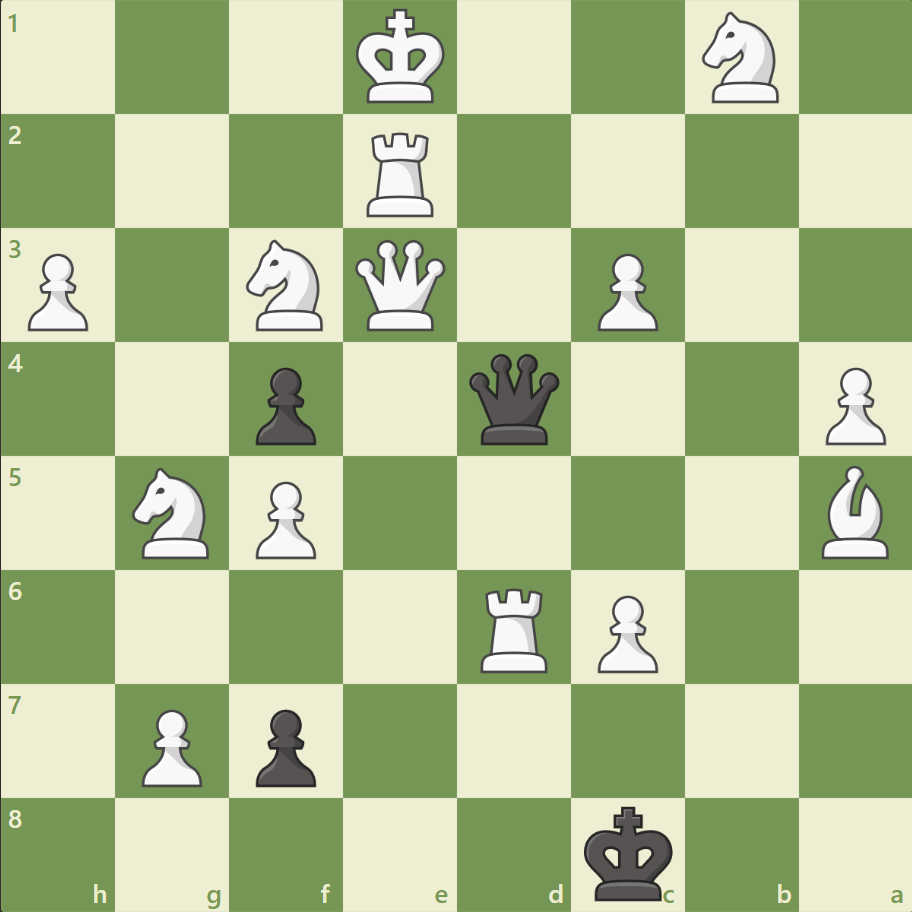B: (812, 460, 896, 563)
K: (351, 4, 451, 112)
N: (124, 461, 222, 564), (238, 234, 335, 337), (692, 7, 789, 110)
P: (133, 700, 208, 791), (247, 473, 322, 564), (20, 246, 95, 337), (588, 586, 662, 677), (815, 359, 889, 450), (588, 246, 662, 337)
Q: (351, 236, 450, 335)
R: (473, 579, 556, 676), (360, 125, 442, 222)
k: (579, 798, 679, 906)
p: (247, 700, 322, 791), (247, 359, 322, 450)
q: (464, 349, 563, 449)
